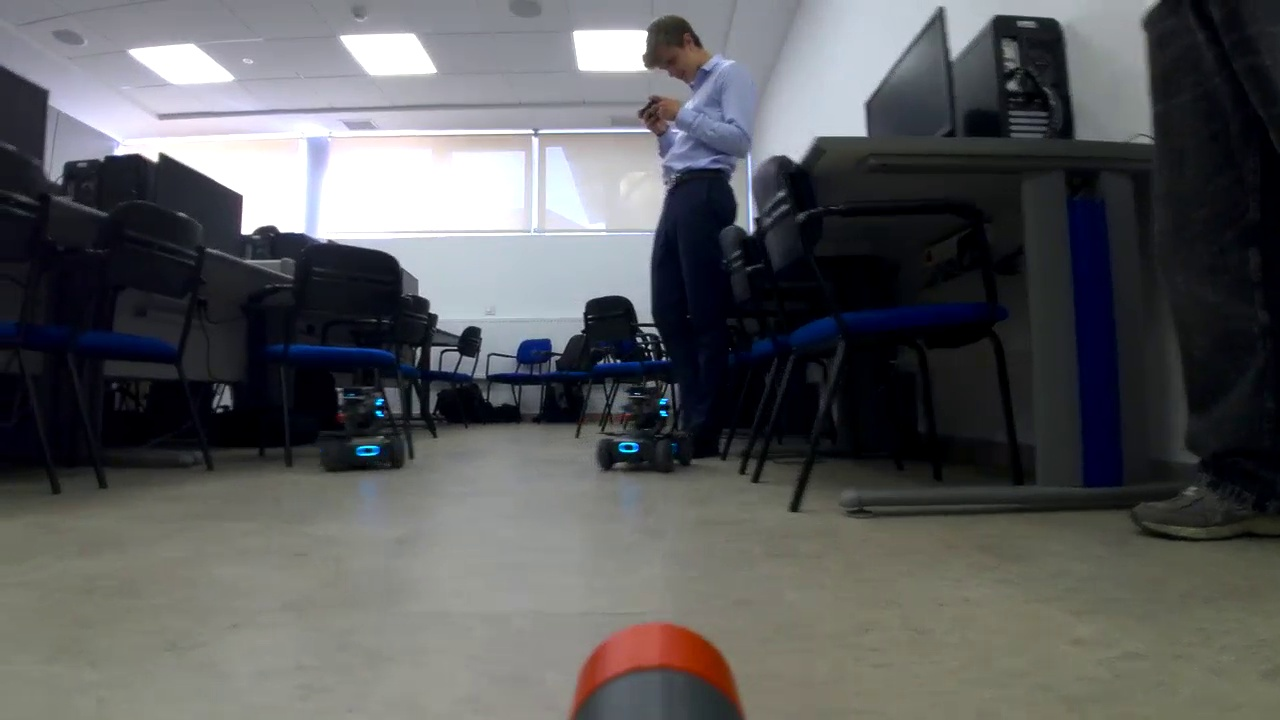robot: (590, 380, 697, 480), (315, 387, 406, 471)
